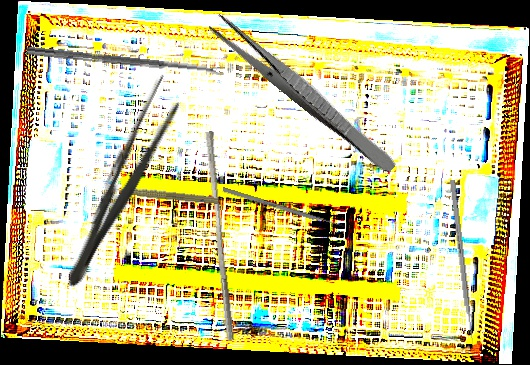Dressing Forceps: (206, 11, 402, 177), (55, 70, 191, 296)
Handpiece: (104, 181, 219, 206)
Pusher: (197, 130, 243, 342), (222, 187, 348, 230), (449, 179, 476, 351)
Surgical Spoon: (26, 46, 225, 77)
